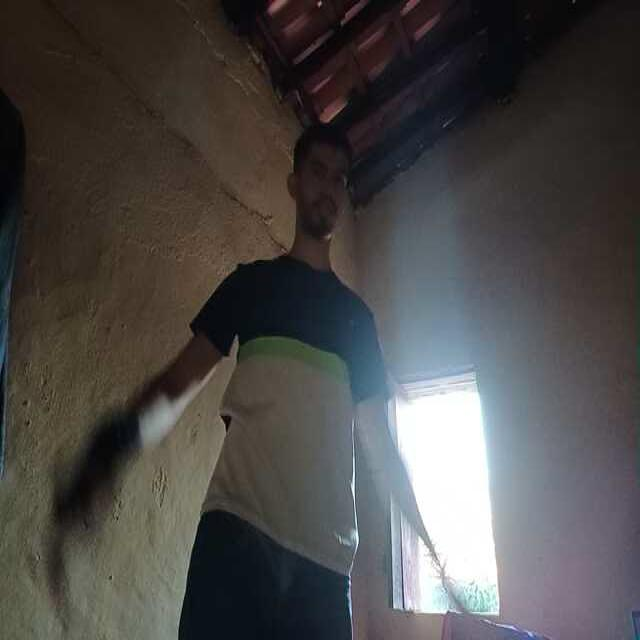pessoa: (165, 96, 391, 640)
